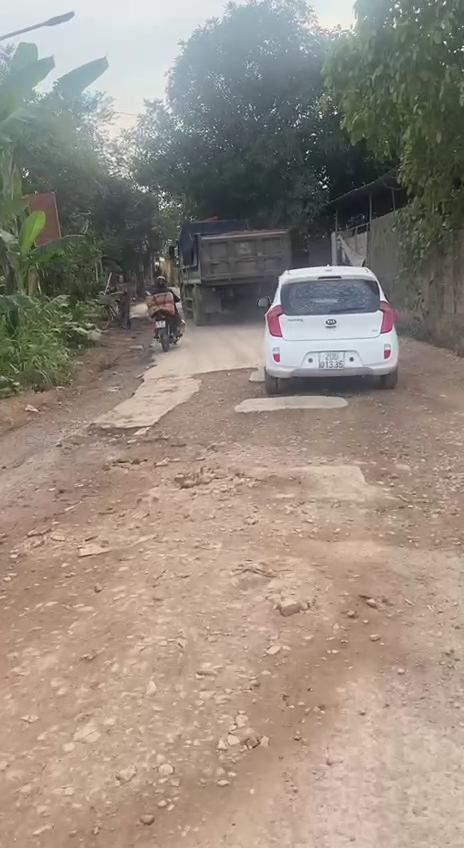pothole: (4, 408, 240, 558), (286, 384, 464, 548), (150, 358, 282, 478)
